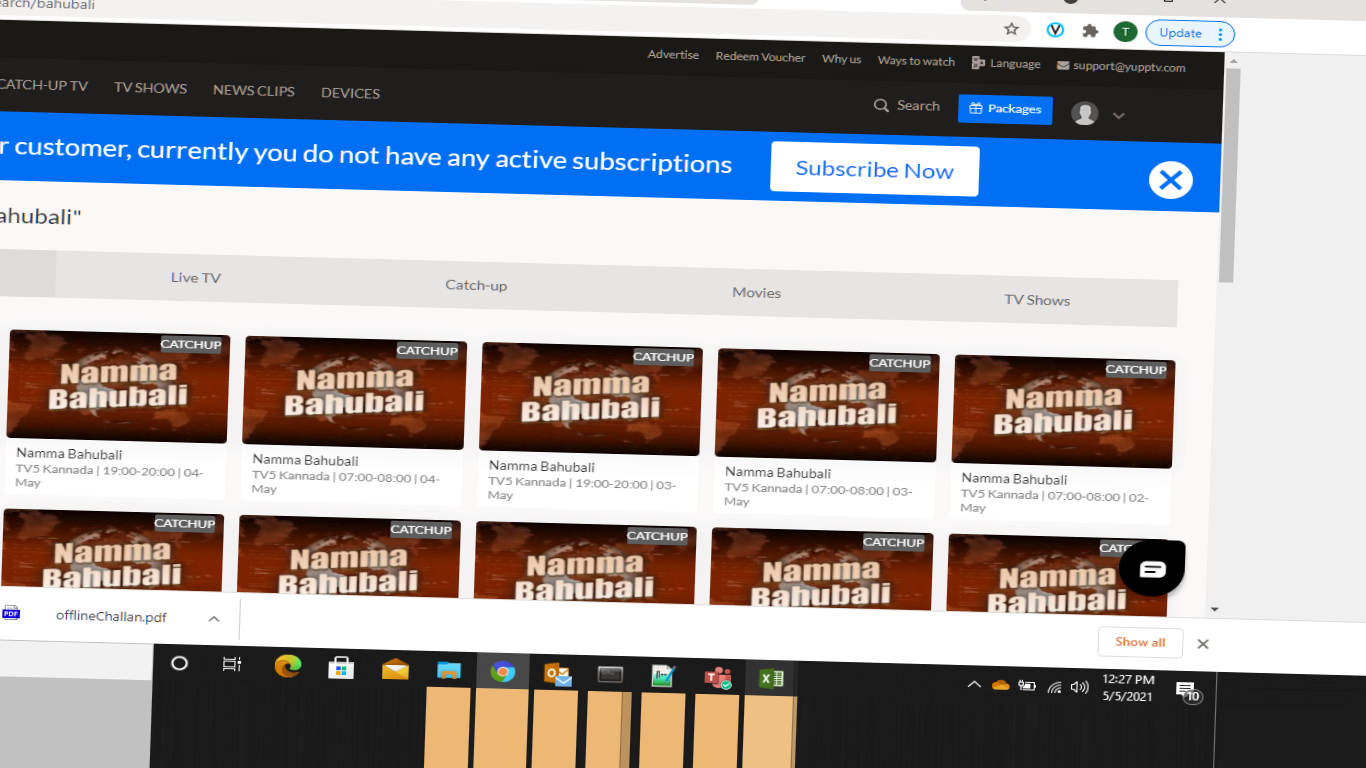profileicon: (1063, 93, 1129, 137)
resultsfound: (1, 192, 97, 252)
searchicon: (855, 76, 954, 123)
